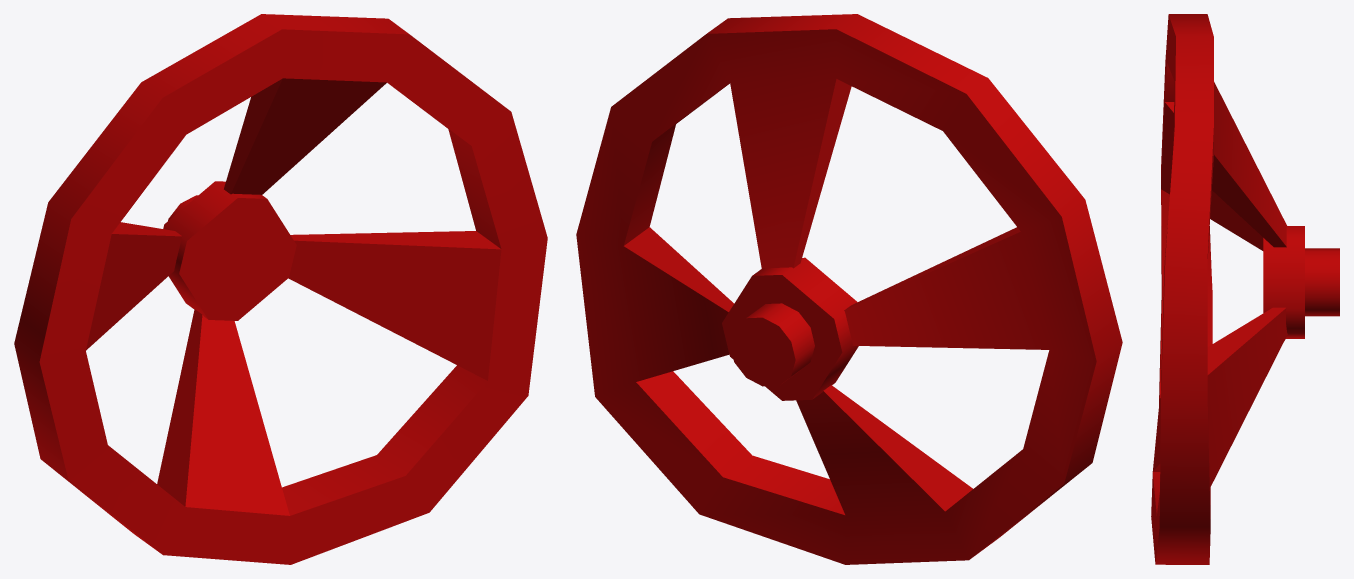
Rendered from valve_big_main_door.fbx.
3 renders of one model, left to right at view 1: azimuth 30°, elevation 25°; view 2: azimuth 150°, elevation 25°; view 3: azimuth 270°, elevation 25°, orthographic. The views are drawn at different scales.
Visible parts, largest first — view 1: Circle.006; view 2: Circle.006; view 3: Circle.006.
Part boxes in pixels (x1=…): Circle.006: x1=14, y1=14, x2=547, y2=564; Circle.006: x1=576, y1=14, x2=1122, y2=564; Circle.006: x1=1151, y1=14, x2=1339, y2=564.
Size of the model in its own units: 0.6623 by 0.6538 by 0.2319.
